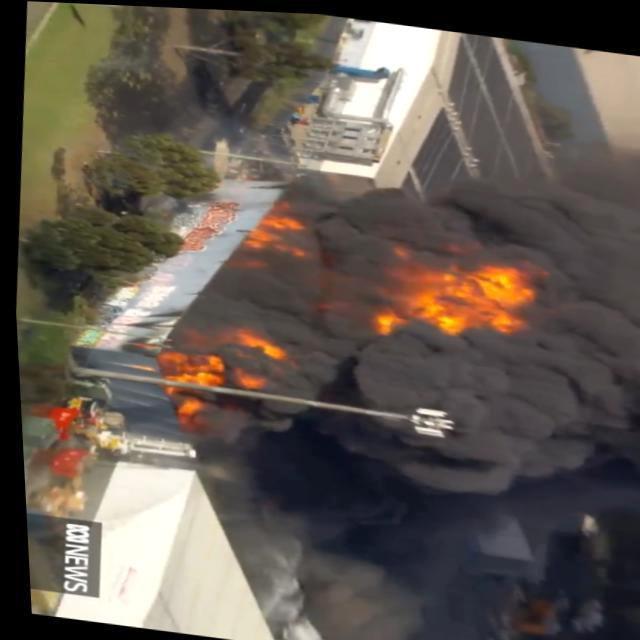fire: (374, 232, 554, 344), (149, 318, 299, 432), (241, 202, 319, 262)
